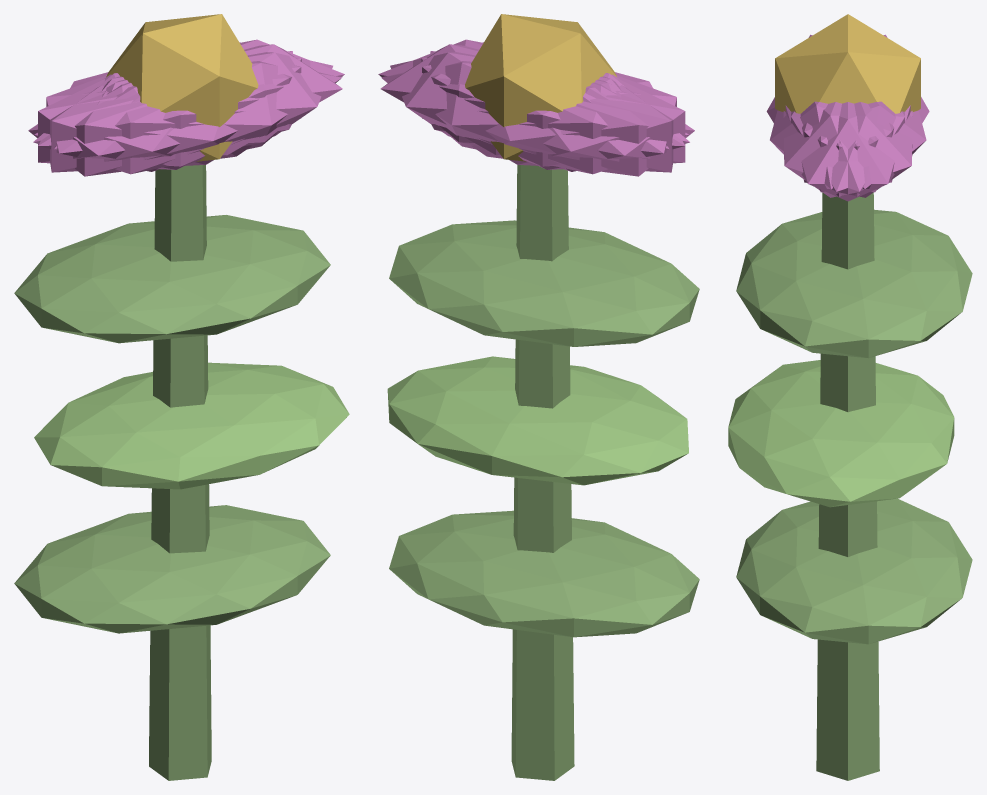
File: triphasia-trifolia.glb
3 renders of one model, left to right at view 1: azimuth 30°, elevation 25°; view 2: azimuth 150°, elevation 25°; view 3: azimuth 270°, elevation 25°, orthographic.
Visible parts, largest first — view 1: leaf2, leaf1, leaf0, stem, center, petal1, petal6, petal2, petal5, petal7, petal0, petal4 (+2 smaller); view 2: leaf2, leaf0, leaf1, stem, center, petal8, petal3, petal7, petal4, petal2, petal0, petal5 (+2 smaller); view 3: leaf2, leaf1, leaf0, stem, center, petal0, petal4, petal5, petal8, petal1.
Boxes of the visible parts, x1,y1,x2,y2 form: leaf2: (14,215,330,343); leaf1: (34,362,349,489); leaf0: (14,505,330,633); stem: (149,165,211,780); center: (106,14,258,161); petal1: (33,61,341,174); petal6: (28,74,251,176); petal2: (50,51,292,172); petal5: (54,52,332,166); petal7: (38,57,301,169); petal0: (106,44,342,155); petal4: (34,39,344,146); leaf2: (389,220,699,346); leaf0: (389,510,699,637); leaf1: (387,356,688,485); stem: (511,165,574,780); center: (465,14,616,161); petal8: (381,61,689,174); petal3: (471,74,694,176); petal7: (430,51,673,172); petal4: (390,52,668,166); petal2: (421,57,685,169); petal0: (380,44,617,155); petal5: (378,39,688,146); leaf2: (736,209,972,358); leaf1: (728,360,954,507); leaf0: (736,498,972,644); stem: (816,192,879,780); center: (775,14,920,113); petal0: (785,102,910,201); petal4: (791,102,912,197); petal5: (783,102,904,197); petal8: (802,101,926,189); petal1: (770,101,894,189).
Bounding box in the file's own units: 0.1452 × 0.3398 × 0.1025.
